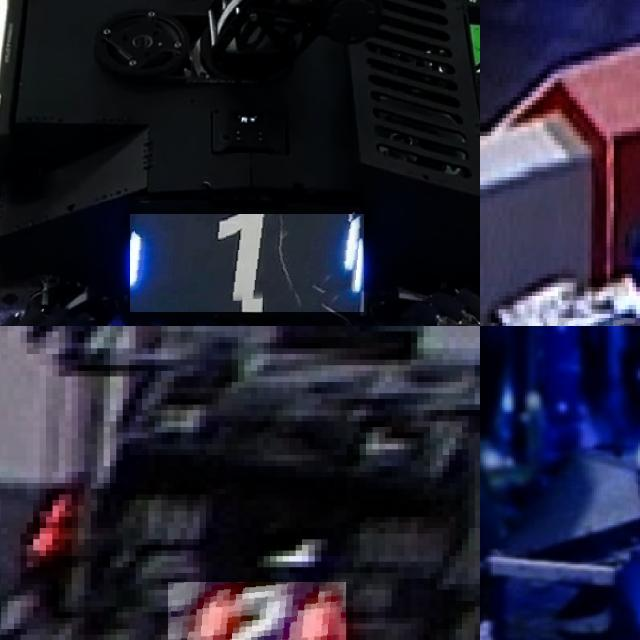B1: (130, 214, 364, 312)
R2: (167, 581, 346, 640)
